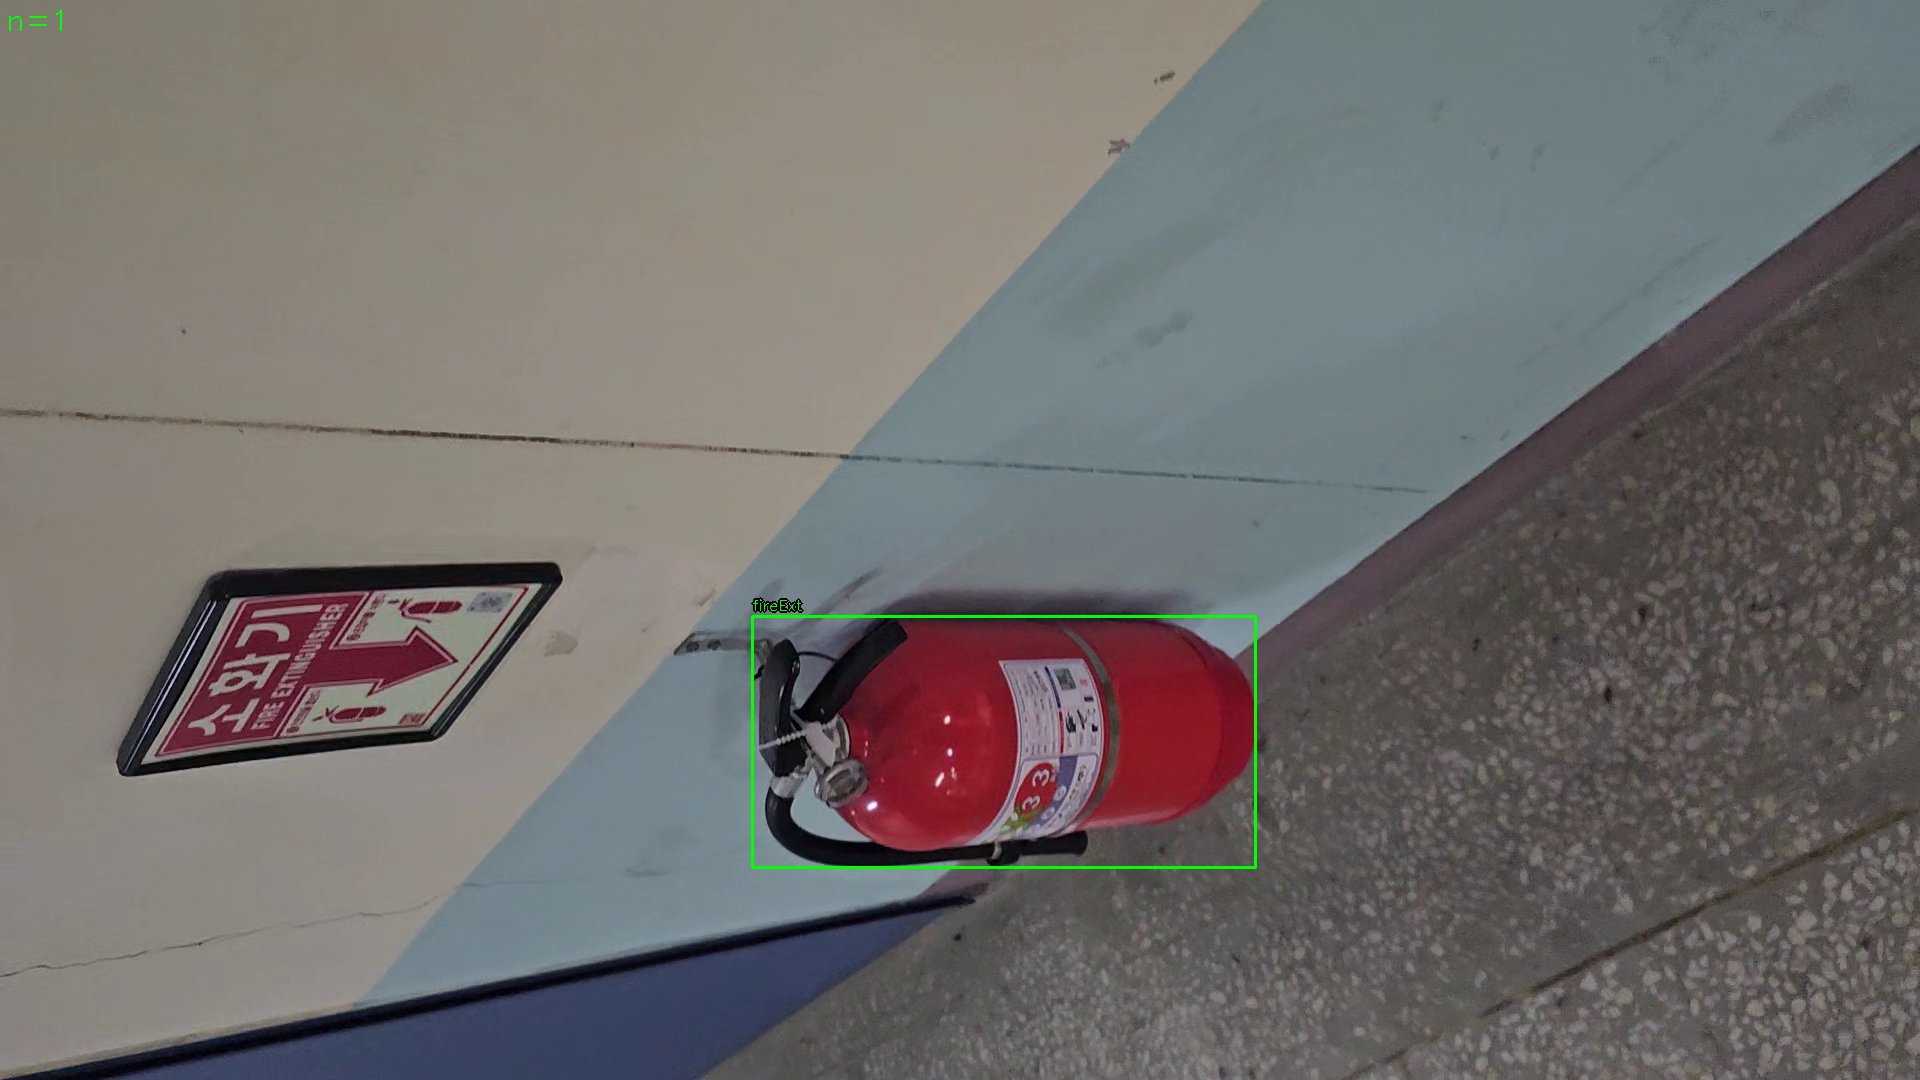lane: (752, 616, 1255, 868)
